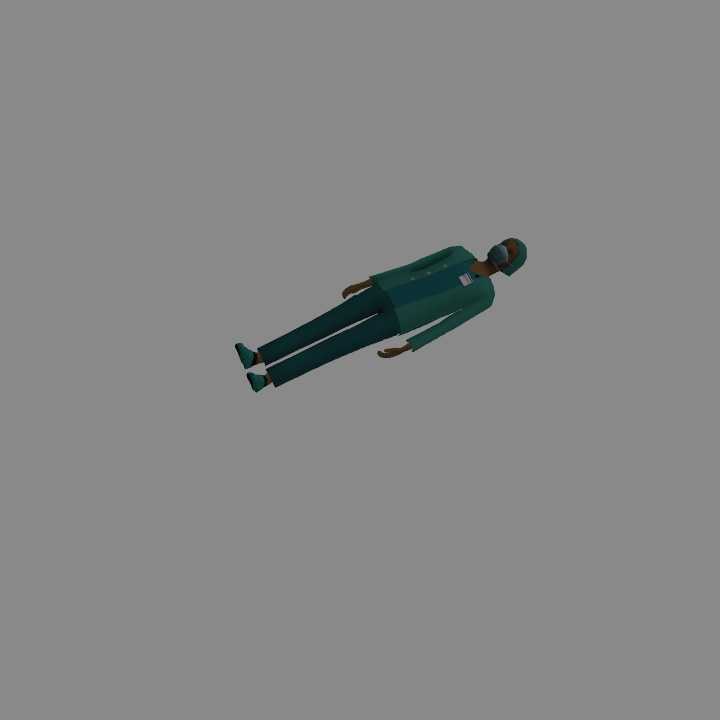victim: (238, 238, 527, 393)
